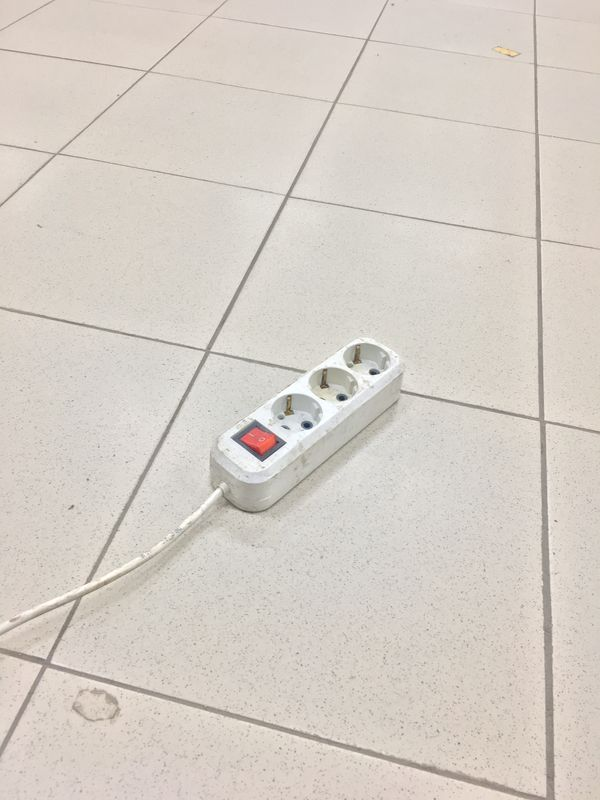socket: (198, 328, 415, 521)
